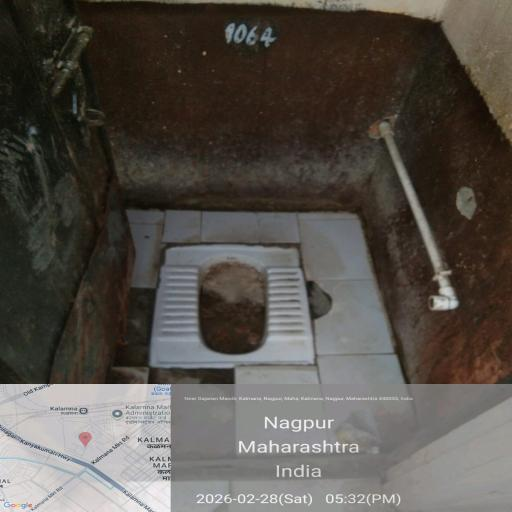damage: (107, 294, 168, 374)
dirty_floor: (0, 46, 133, 396), (369, 94, 512, 360)
dirty_indian: (162, 252, 308, 368)
partial_dirty_floor: (129, 216, 371, 384), (117, 11, 502, 114), (128, 125, 396, 216)
